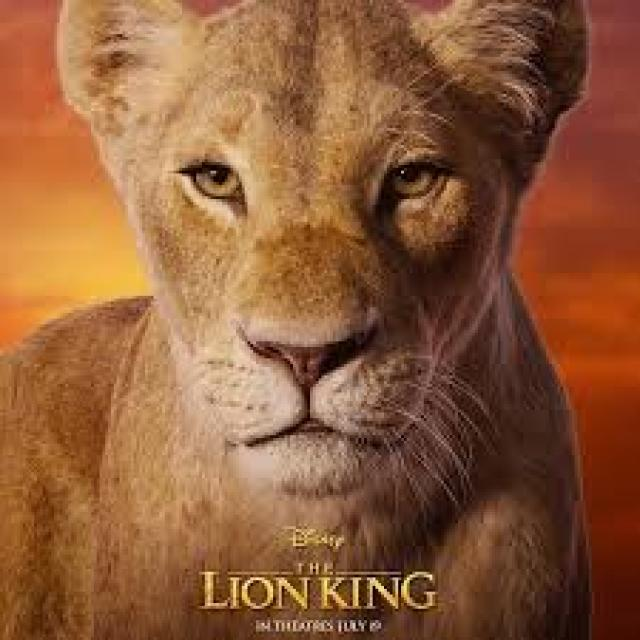Lion: (0, 0, 593, 637)
